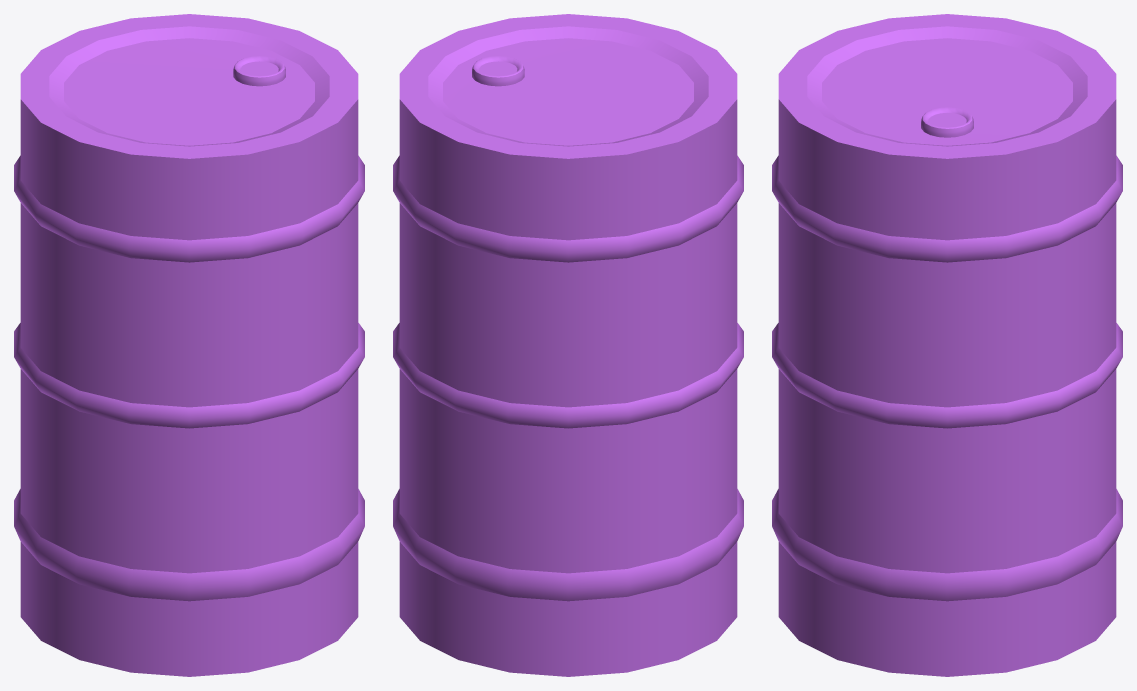
File: OilBarrel.FBX
The picture shows the model from 3 angles, left to right: view 1: azimuth 30°, elevation 25°; view 2: azimuth 150°, elevation 25°; view 3: azimuth 270°, elevation 25°; orthographic projection.
Visible parts, largest first — view 1: OilBarrel; view 2: OilBarrel; view 3: OilBarrel.
Part boxes in pixels (left/top/right/bottom): OilBarrel: left=14, top=14, right=364, bottom=676; OilBarrel: left=393, top=14, right=743, bottom=676; OilBarrel: left=772, top=14, right=1122, bottom=676.
Bounding box in the file's own units: 62.32 × 101 × 61.38.
